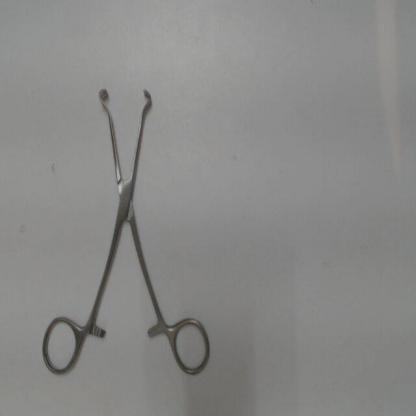Babcock Tissue Forceps: (41, 79, 222, 386)
